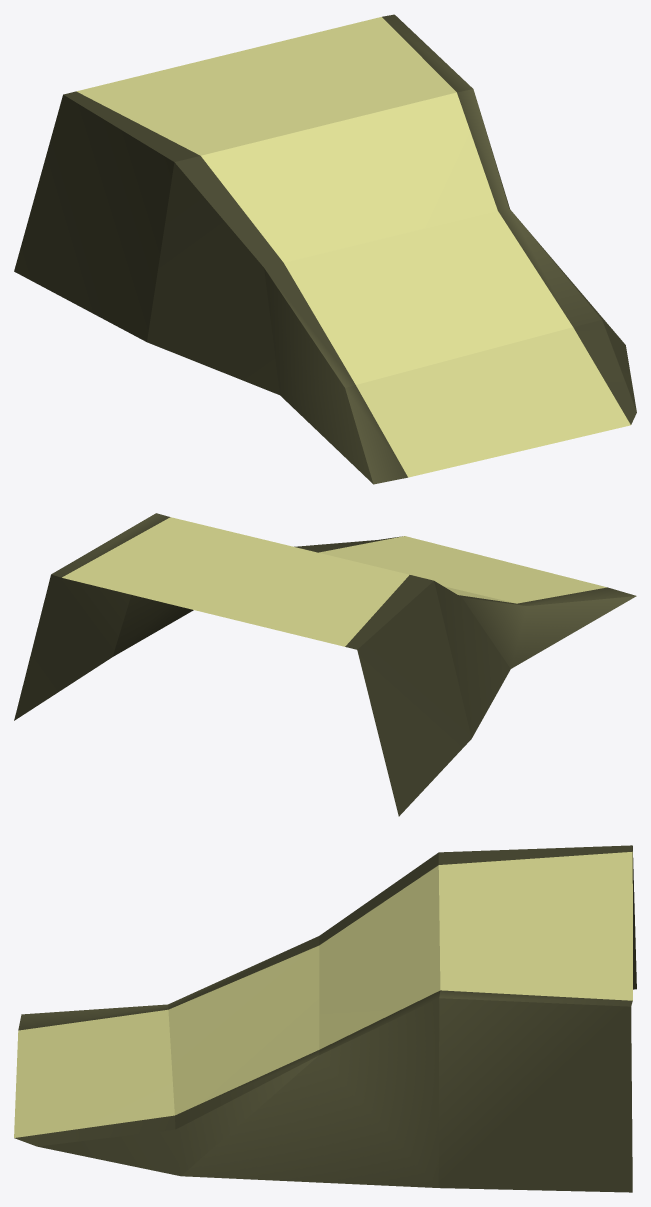
Rendered from c_house_ramp_aa.fbx.
The picture shows the model from 3 angles, top to bottom: view 1: azimuth 30°, elevation 25°; view 2: azimuth 150°, elevation 25°; view 3: azimuth 270°, elevation 25°; orthographic projection. The views are drawn at different scales.
Visible parts, largest first — view 1: c_house_ramp_aa; view 2: c_house_ramp_aa; view 3: c_house_ramp_aa.
Boxes of the visible parts, box(x1,y1,x2,y2) form: c_house_ramp_aa: box(14, 14, 636, 484); c_house_ramp_aa: box(14, 513, 636, 816); c_house_ramp_aa: box(14, 845, 636, 1192).
Bounding box in the file's own units: 2.61 × 1 × 3.38.
